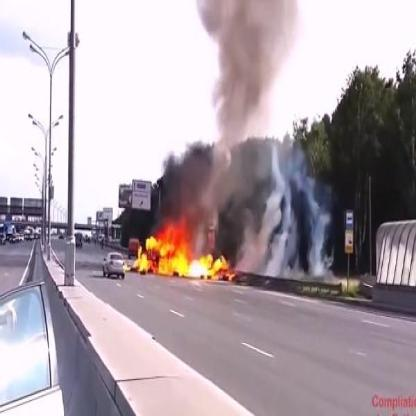fire: (136, 222, 235, 284)
